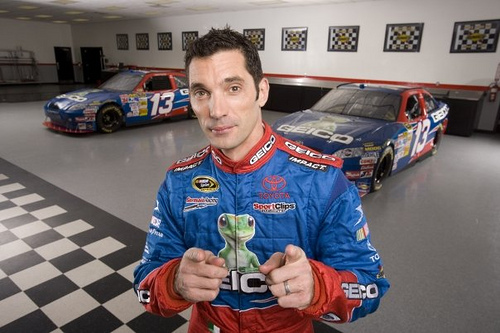Geico: (275, 118, 360, 143), (281, 140, 335, 167), (248, 135, 280, 168)
